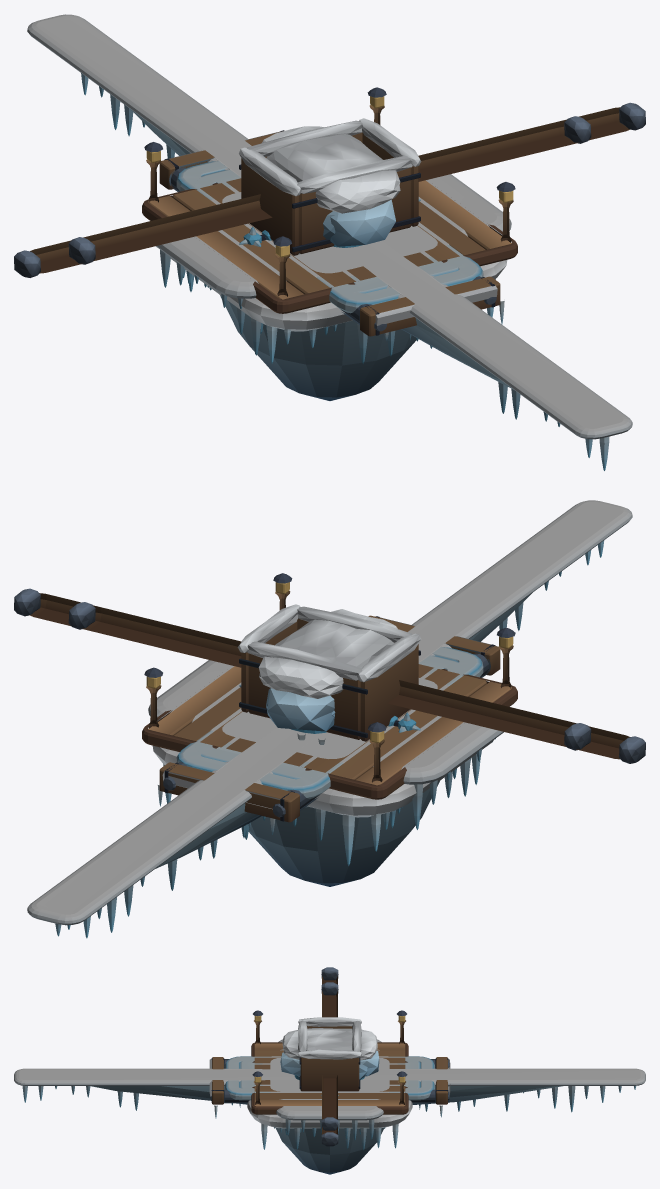
File: glacier-5-D3pgG5RM.glb
3 renders of one model, top to bottom at view 1: azimuth 30°, elevation 25°; view 2: azimuth 150°, elevation 25°; view 3: azimuth 270°, elevation 25°, orthographic. The views are drawn at different scales.
Visible parts, largest first — view 1: block_2.5x2x48_grate#0, pad_12x2x12#0, hopper_4.7x3#0, disc_12x1.5#0, spout_2x5#0, mount_14.9#0, block_14x2x8#0, mount_12.2#0, belt_6.5x1.5x18x1#0, block_7x2x16_ice#0, block_7x2x10#0, block_7x2x14_ice#0; view 2: block_2.5x2x48_grate#0, pad_12x2x12#0, hopper_4.7x3#0, disc_12x1.5#0, spout_2x5#0, mount_14.9#0, block_14x2x8#0, mount_12.2#0, belt_6.5x1.5x18x1#0, block_7x2x16_ice#0, block_7x2x10#0, block_7x2x14_ice#0; view 3: block_2.5x2x48_grate#0, pad_12x2x12#0, hopper_4.7x3#0, disc_12x1.5#0, spout_2x5#0, block_14x2x8#0, belt_6.5x1.5x18x1#0, mount_14.9#0, block_7x2x16_ice#0, block_7x2x10#0, block_7x2x14_ice#0, mount_12.2#0.
Boxes of the visible parts, left/top/right/bottom form: block_2.5x2x48_grate#0: left=27, top=14, right=632, bottom=470; pad_12x2x12#0: left=142, top=87, right=517, bottom=363; hopper_4.7x3#0: left=239, top=118, right=421, bottom=255; disc_12x1.5#0: left=204, top=187, right=458, bottom=400; spout_2x5#0: left=262, top=126, right=400, bottom=247; mount_14.9#0: left=14, top=102, right=645, bottom=277; block_14x2x8#0: left=156, top=174, right=511, bottom=336; mount_12.2#0: left=68, top=116, right=591, bottom=264; belt_6.5x1.5x18x1#0: left=159, top=130, right=504, bottom=340; block_7x2x16_ice#0: left=176, top=161, right=483, bottom=313; block_7x2x10#0: left=222, top=192, right=437, bottom=335; block_7x2x14_ice#0: left=194, top=169, right=465, bottom=293; block_2.5x2x48_grate#0: left=27, top=500, right=632, bottom=938; pad_12x2x12#0: left=142, top=573, right=517, bottom=865; hopper_4.7x3#0: left=237, top=604, right=421, bottom=741; disc_12x1.5#0: left=201, top=672, right=456, bottom=886; spout_2x5#0: left=258, top=609, right=397, bottom=744; mount_14.9#0: left=14, top=588, right=645, bottom=763; block_14x2x8#0: left=148, top=660, right=503, bottom=829; mount_12.2#0: left=68, top=602, right=591, bottom=750; belt_6.5x1.5x18x1#0: left=157, top=615, right=500, bottom=834; block_7x2x16_ice#0: left=176, top=647, right=483, bottom=807; block_7x2x10#0: left=222, top=678, right=437, bottom=758; block_7x2x14_ice#0: left=195, top=655, right=465, bottom=779; block_2.5x2x48_grate#0: left=14, top=1068, right=645, bottom=1112; pad_12x2x12#0: left=247, top=1010, right=412, bottom=1150; hopper_4.7x3#0: left=298, top=1017, right=361, bottom=1091; disc_12x1.5#0: left=262, top=1056, right=397, bottom=1174; spout_2x5#0: left=280, top=1028, right=379, bottom=1079; block_14x2x8#0: left=276, top=1039, right=383, bottom=1140; belt_6.5x1.5x18x1#0: left=209, top=1057, right=450, bottom=1118; mount_14.9#0: left=321, top=967, right=338, bottom=1146; block_7x2x16_ice#0: left=225, top=1056, right=434, bottom=1100; block_7x2x10#0: left=270, top=1058, right=389, bottom=1091; block_7x2x14_ice#0: left=239, top=1056, right=420, bottom=1092; mount_12.2#0: left=321, top=982, right=338, bottom=1130.
Bounding box in the file's own units: 30.7 × 11.8 × 48.22.
